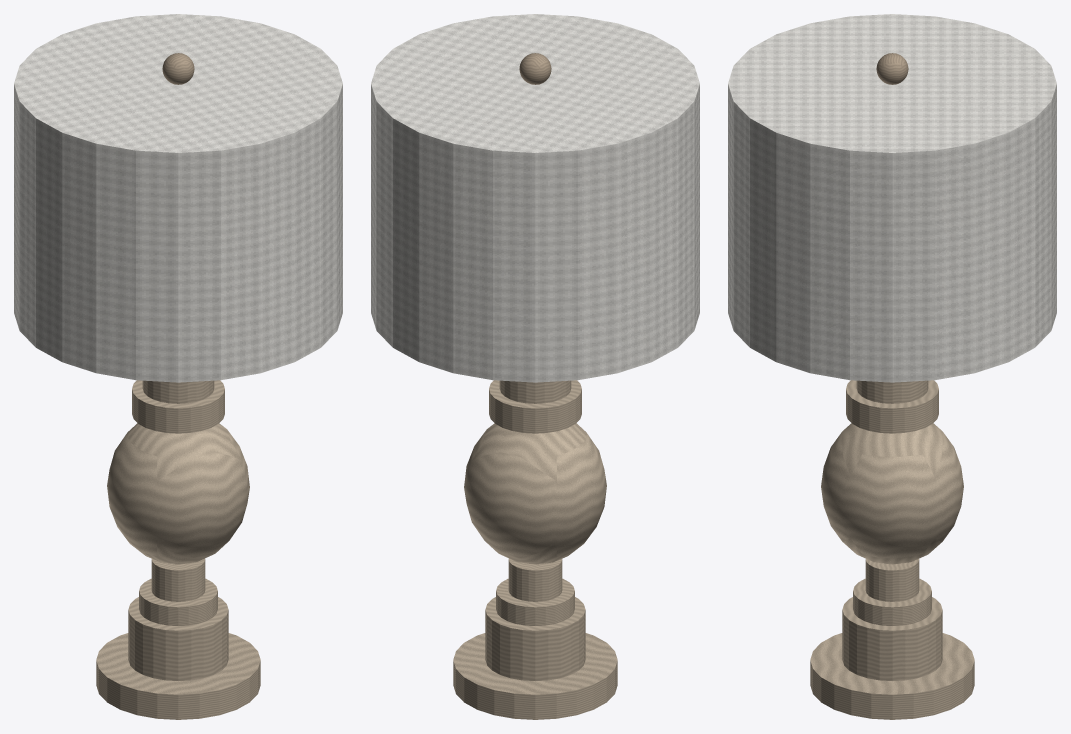
The picture shows the model from 3 angles, left to right: view 1: azimuth 30°, elevation 25°; view 2: azimuth 150°, elevation 25°; view 3: azimuth 270°, elevation 25°; orthographic projection.
Visible parts, largest first — view 1: 10 lamp_shade, 5 urn_body, 1 base_plinth, 2 lower_pedestal, 6 upper_collar, 3 lower_collar, 4 lower_neck, 7 upper_neck, 11 finial; view 2: 10 lamp_shade, 5 urn_body, 1 base_plinth, 2 lower_pedestal, 6 upper_collar, 3 lower_collar, 4 lower_neck, 7 upper_neck, 11 finial; view 3: 10 lamp_shade, 5 urn_body, 1 base_plinth, 2 lower_pedestal, 6 upper_collar, 3 lower_collar, 4 lower_neck, 7 upper_neck, 11 finial.
Part boxes in pixels (bbox=[...]): 10 lamp_shade: bbox=[14, 14, 342, 382]; 5 urn_body: bbox=[107, 423, 249, 564]; 1 base_plinth: bbox=[96, 633, 260, 719]; 2 lower_pedestal: bbox=[128, 597, 228, 680]; 6 upper_collar: bbox=[132, 380, 224, 433]; 3 lower_collar: bbox=[139, 578, 217, 625]; 4 lower_neck: bbox=[151, 558, 205, 601]; 7 upper_neck: bbox=[142, 380, 214, 403]; 11 finial: bbox=[162, 53, 194, 84]; 10 lamp_shade: bbox=[371, 14, 699, 382]; 5 urn_body: bbox=[464, 423, 606, 564]; 1 base_plinth: bbox=[453, 633, 617, 719]; 2 lower_pedestal: bbox=[485, 597, 585, 680]; 6 upper_collar: bbox=[489, 380, 581, 433]; 3 lower_collar: bbox=[496, 578, 574, 625]; 4 lower_neck: bbox=[508, 558, 562, 601]; 7 upper_neck: bbox=[499, 380, 571, 403]; 11 finial: bbox=[519, 53, 551, 84]; 10 lamp_shade: bbox=[728, 14, 1056, 382]; 5 urn_body: bbox=[821, 423, 963, 564]; 1 base_plinth: bbox=[810, 633, 974, 719]; 2 lower_pedestal: bbox=[842, 597, 942, 680]; 6 upper_collar: bbox=[846, 380, 938, 433]; 3 lower_collar: bbox=[853, 578, 931, 625]; 4 lower_neck: bbox=[865, 559, 919, 601]; 7 upper_neck: bbox=[856, 380, 928, 403]; 11 finial: bbox=[876, 53, 908, 84].
Bounding box in the file's own units: 0.3302 × 0.6985 × 0.3302.
Materials: 4 (3 with a texture image).
